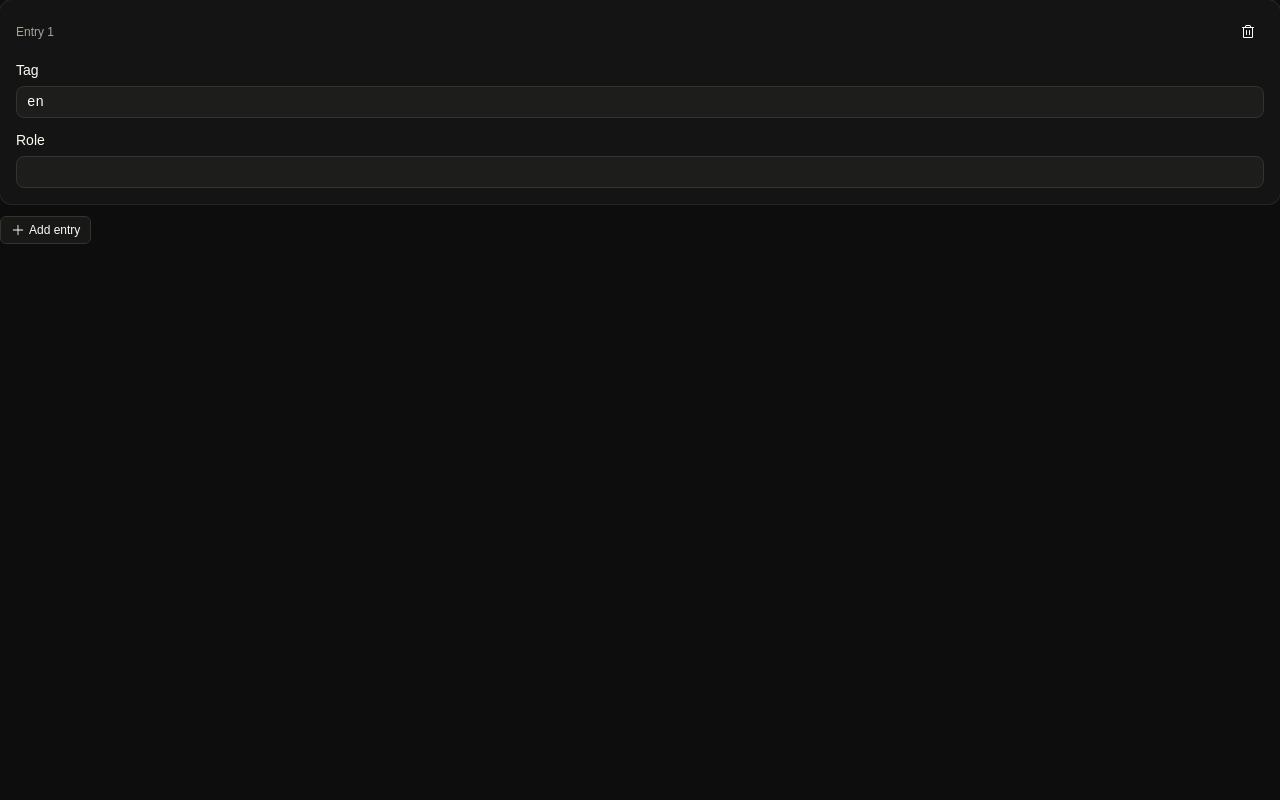
it: RepeatableCards - confirming a removal › shows the list's own explanation in the confirmation, not a value-specific warning
Click the button named "Remove entry 1": (1248, 32) [1232,16,1264,48]
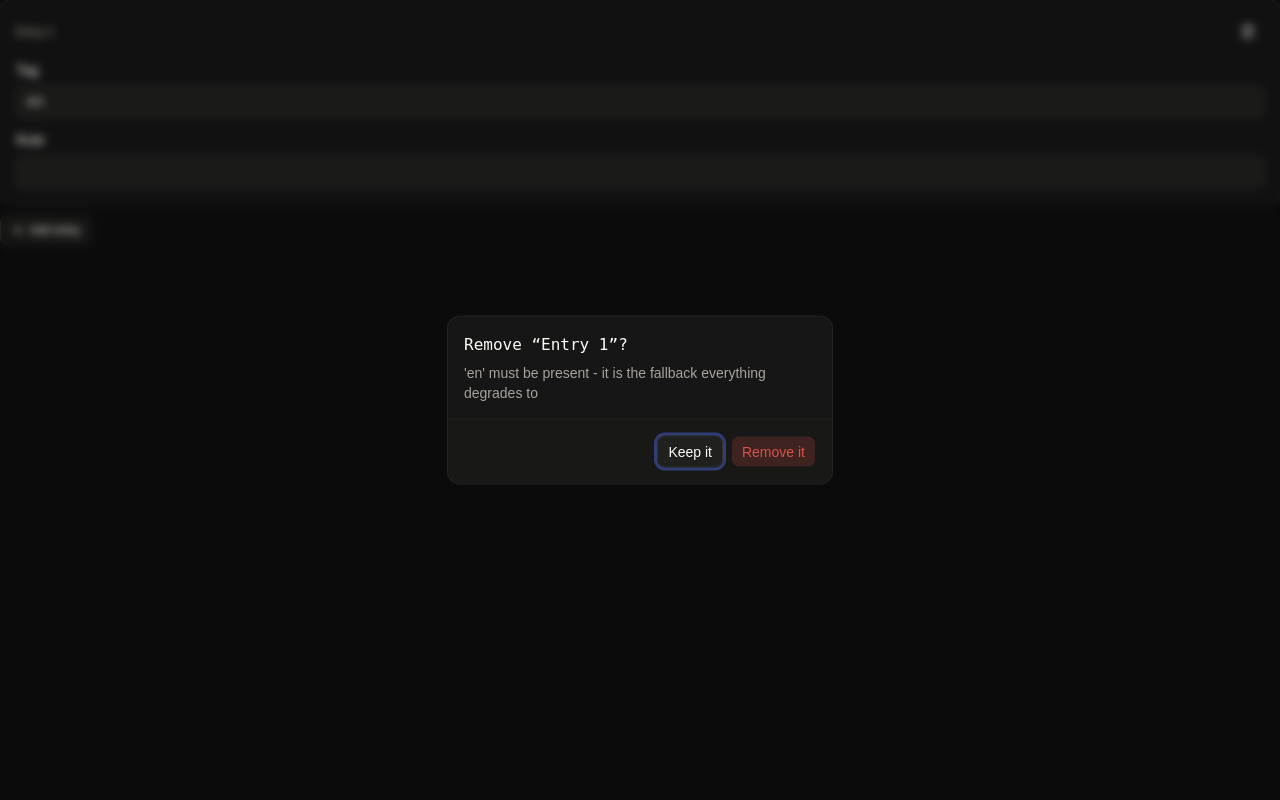
Check: the text "fallback everything degrades to" is shown, box [464,364,770,400]
